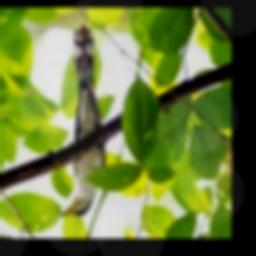Cuckoo: (58, 25, 105, 216)
